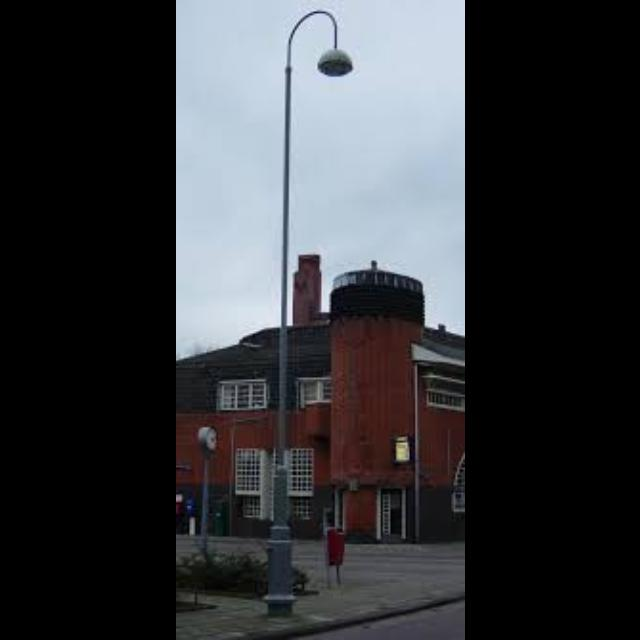Street-Lamp: (262, 7, 356, 621)
